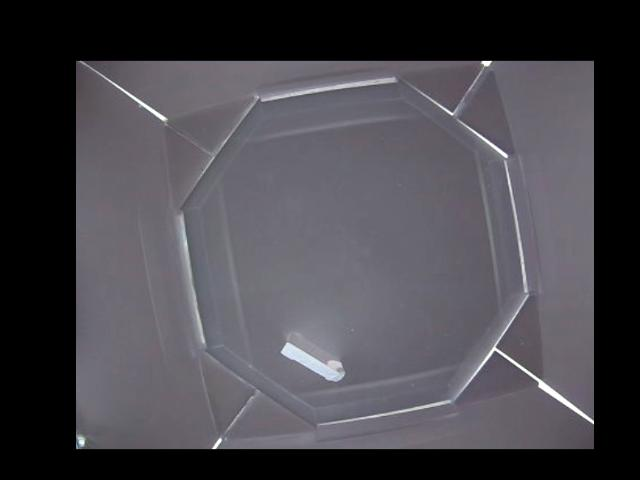China: (281, 333, 345, 380)
